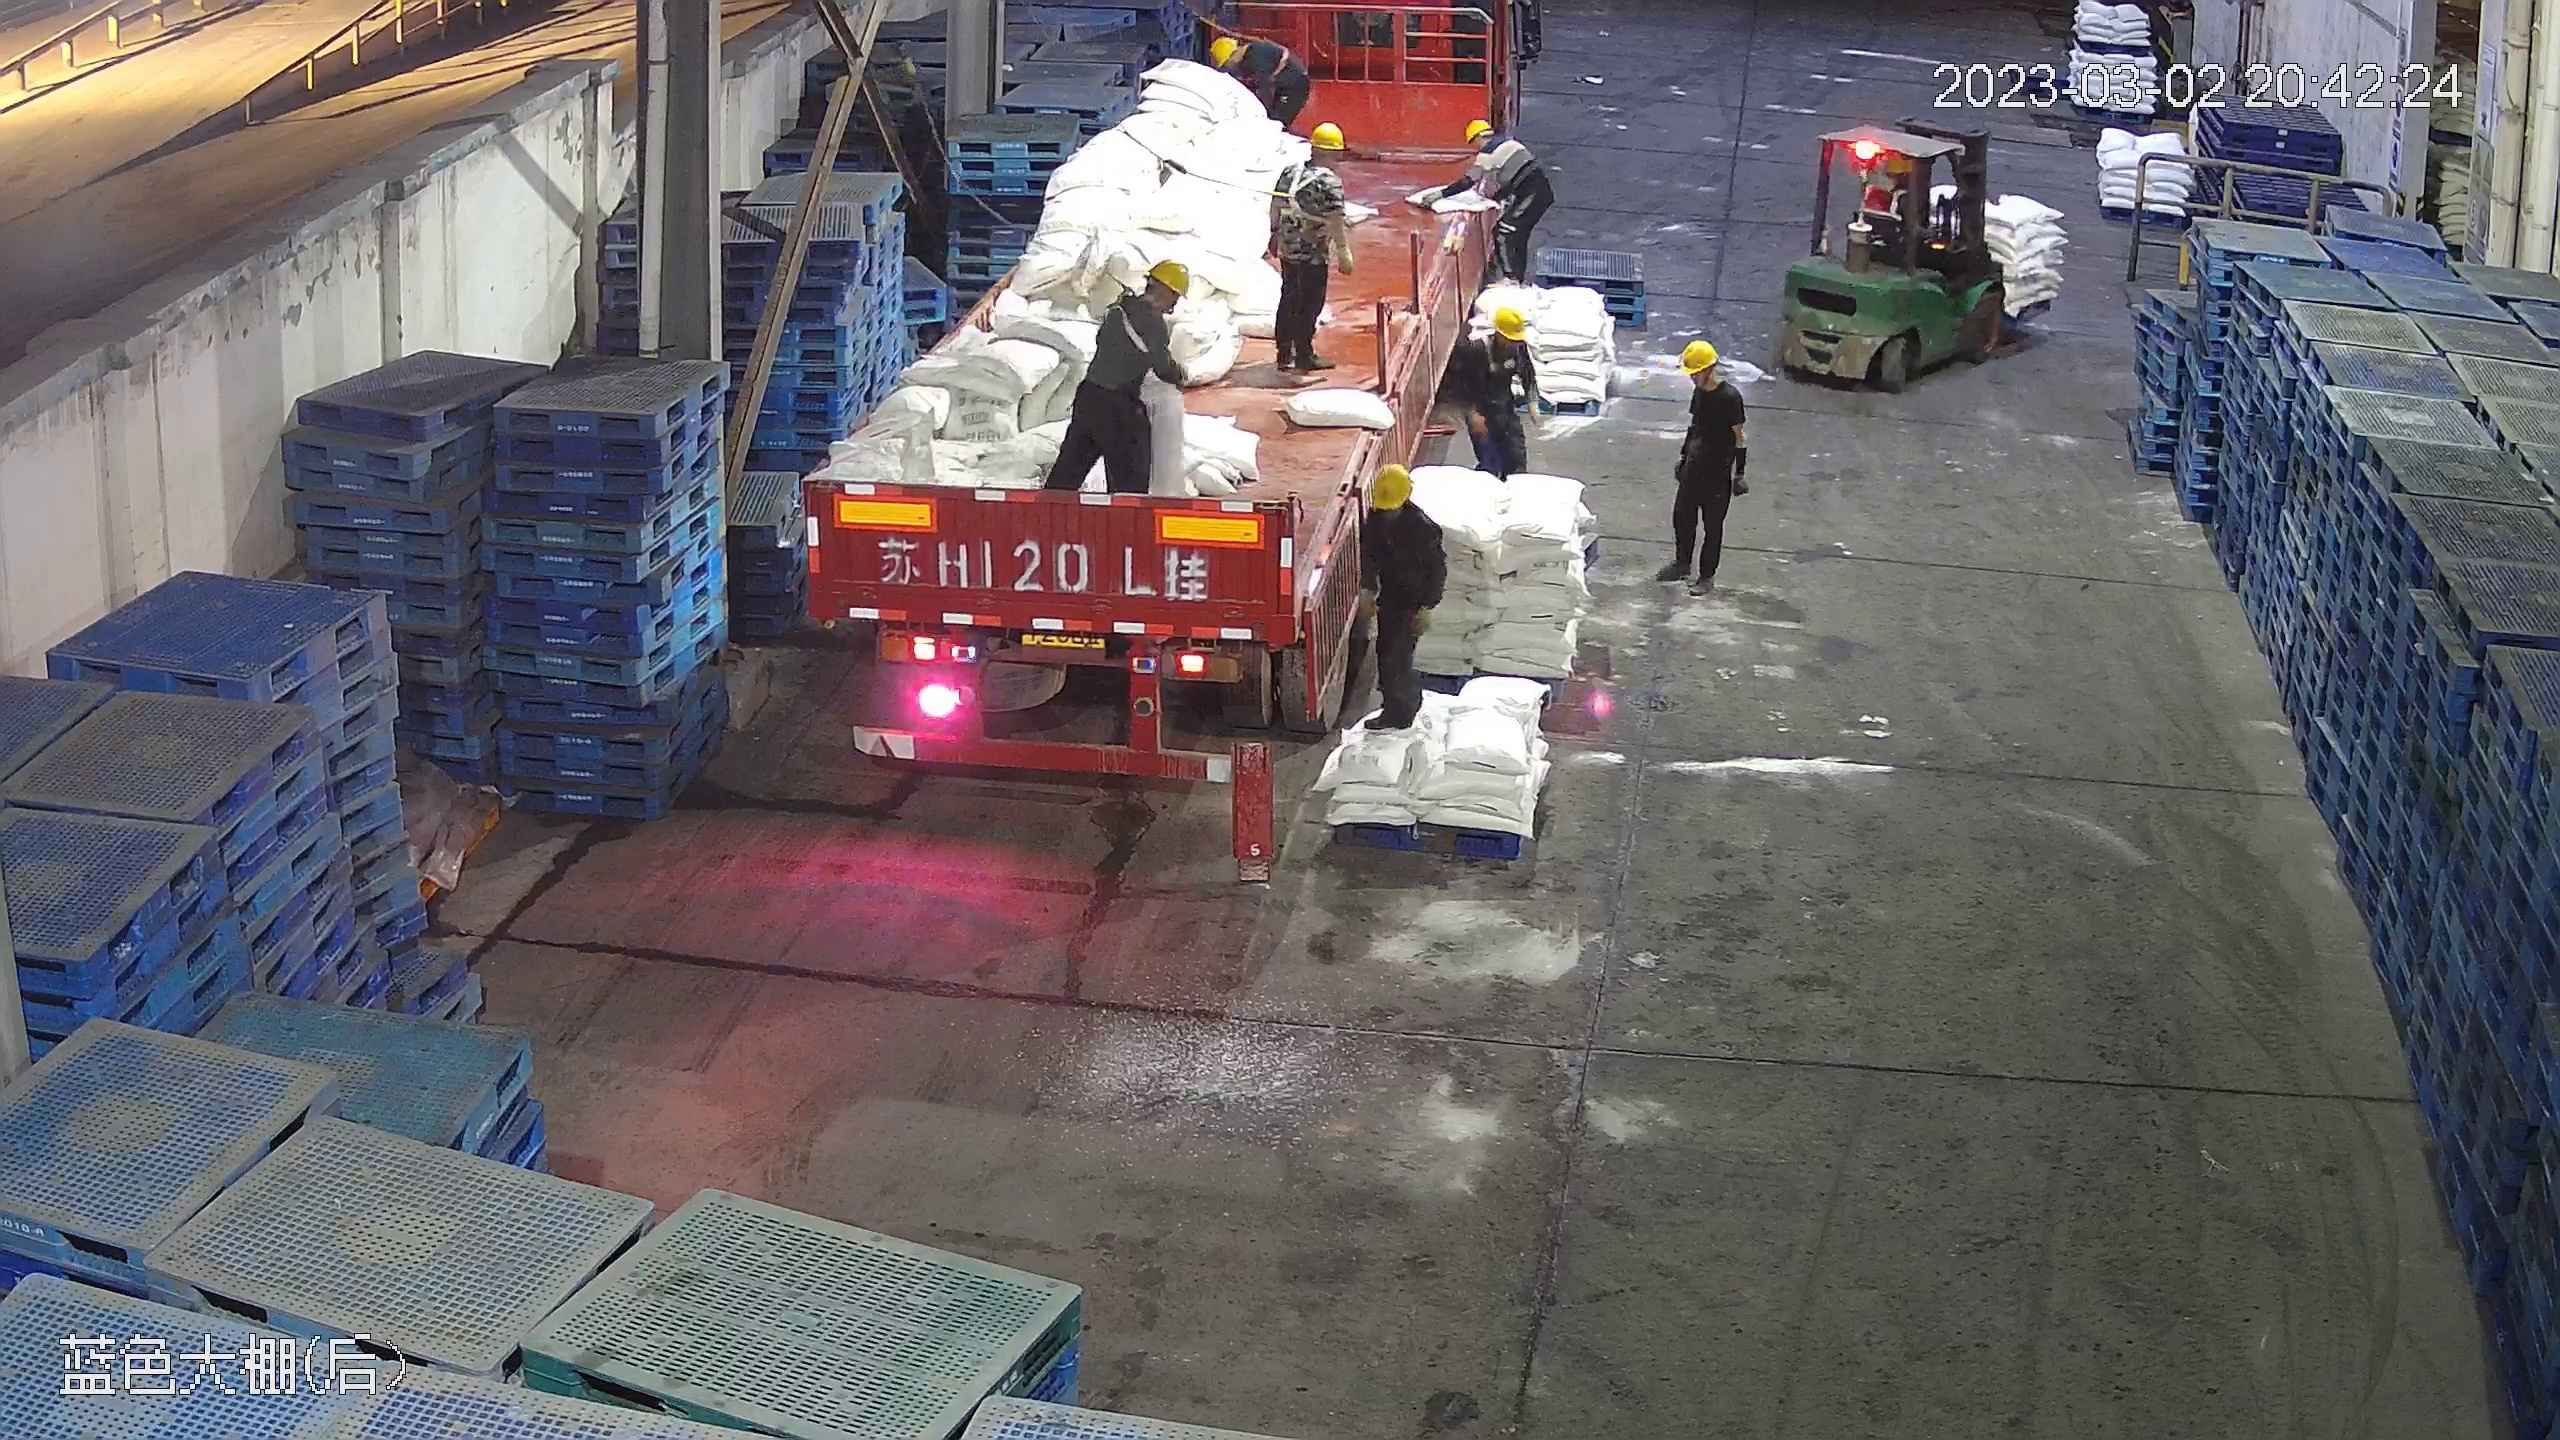belt: (1090, 291, 1162, 366), (1274, 163, 1335, 227), (1243, 37, 1300, 87), (1477, 331, 1525, 372)
head: (1352, 460, 1443, 558), (1101, 256, 1191, 342), (1277, 120, 1350, 200), (1674, 337, 1743, 415), (1465, 306, 1537, 370), (1204, 32, 1284, 88), (1461, 118, 1533, 178)
helmet: (1366, 460, 1414, 509), (1144, 257, 1191, 298), (1677, 337, 1719, 373), (1302, 120, 1346, 151), (1491, 306, 1528, 342), (1205, 32, 1240, 70), (1463, 117, 1496, 146)
people: (1040, 255, 1199, 509), (1343, 460, 1448, 740), (1656, 335, 1749, 594), (1260, 121, 1352, 383), (1443, 116, 1558, 301), (1454, 301, 1544, 480), (1207, 30, 1314, 128)
truck: (790, 19, 1515, 795)
